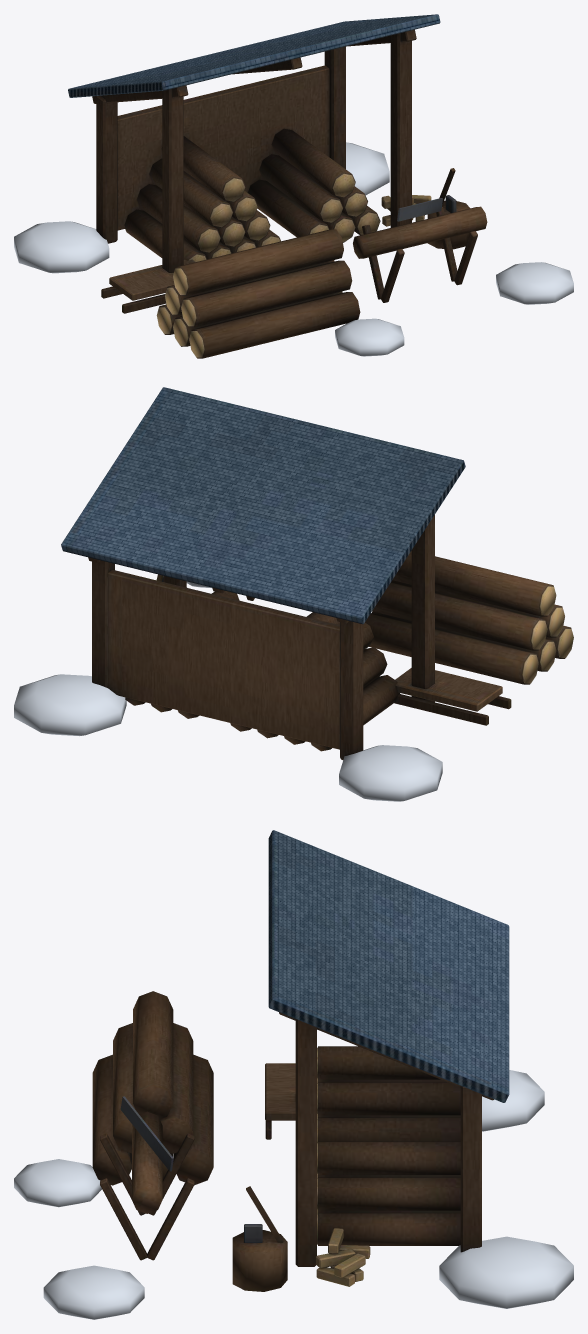
Rendered from wacht_lumber.glb.
3 views of the same model, one above another, from view 1: azimuth 30°, elevation 25°; view 2: azimuth 150°, elevation 25°; view 3: azimuth 270°, elevation 25° (orthographic). The views are drawn at different scales.
Visible parts, largest first — view 1: wacht_lumber, Schnee; view 2: wacht_lumber, Schnee; view 3: wacht_lumber, Schnee.
Part boxes in pixels (x1=…): wacht_lumber: x1=68, y1=14, x2=487, y2=358; Schnee: x1=14, y1=142, x2=573, y2=356; wacht_lumber: x1=61, y1=387, x2=573, y2=759; Schnee: x1=14, y1=581, x2=442, y2=801; wacht_lumber: x1=92, y1=830, x2=509, y2=1291; Schnee: x1=14, y1=1070, x2=573, y2=1319.
Size of the model in its own units: 4.85 by 2.83 by 4.75.
2 materials, 1 textured.
